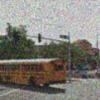buses: (0, 58, 67, 89)
